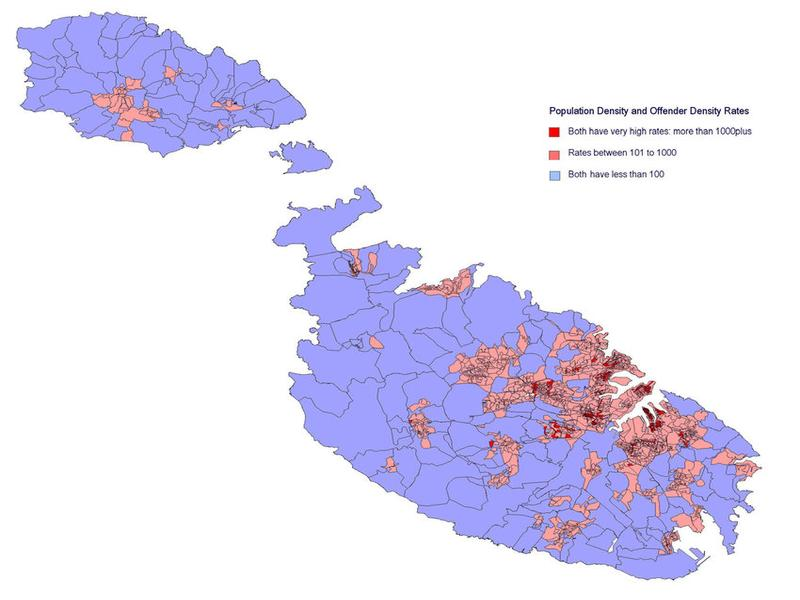legend: (544, 102, 755, 186)
